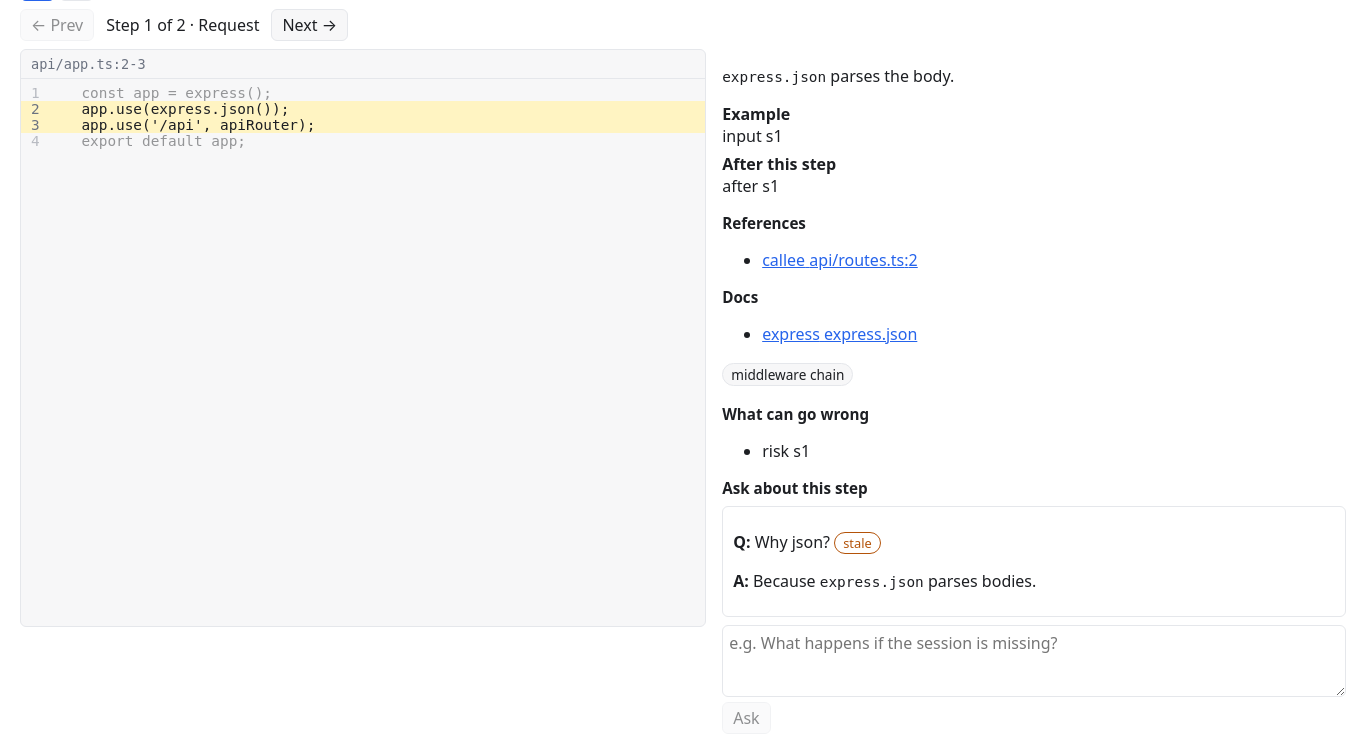
Test: questions › keeps an unsent question when moving to another step and back
The width and height of the screenshot is (1366, 750).
(page scrolled)
Type "Draft question" into the text box named "Question" at x=1034, y=661, box left=722, top=625, right=1346, bottom=697
(page scrolled)
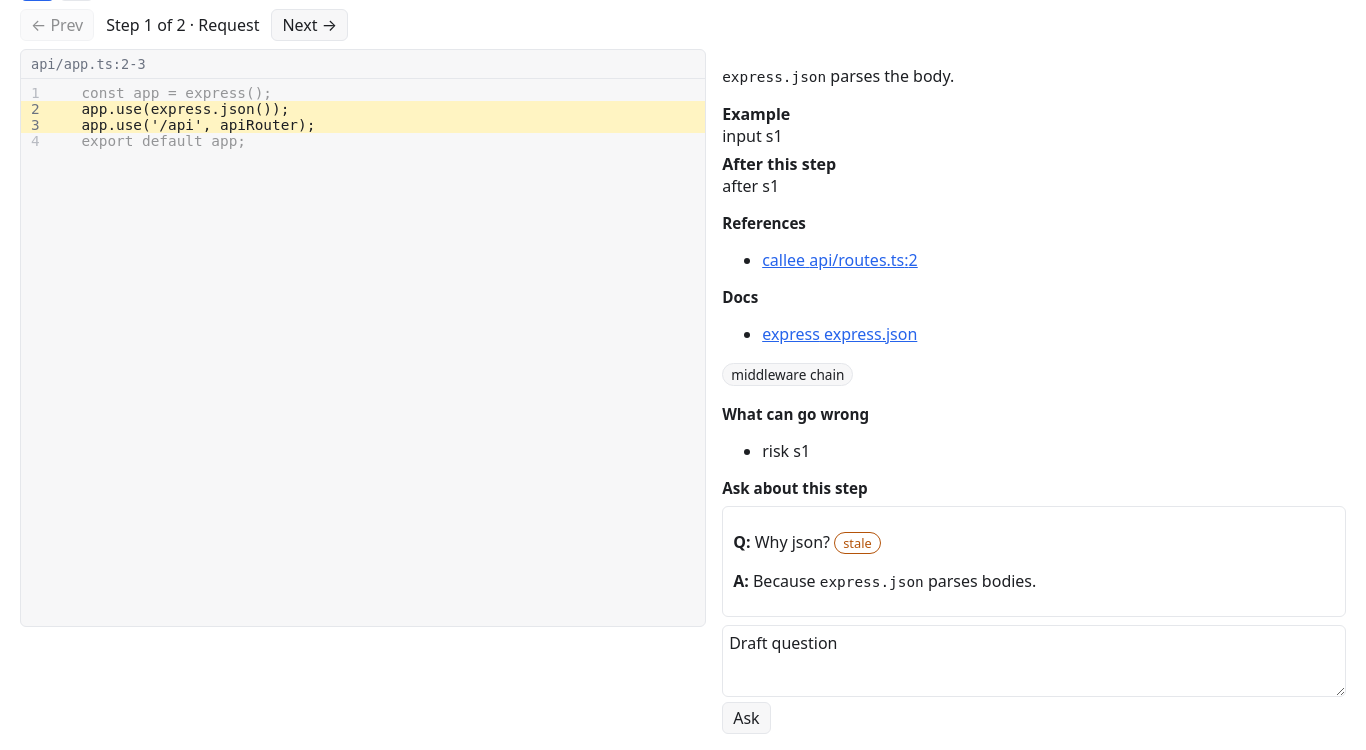
Click the button "Next →" at x=310, y=25, box left=271, top=9, right=348, bottom=41
(page scrolled)
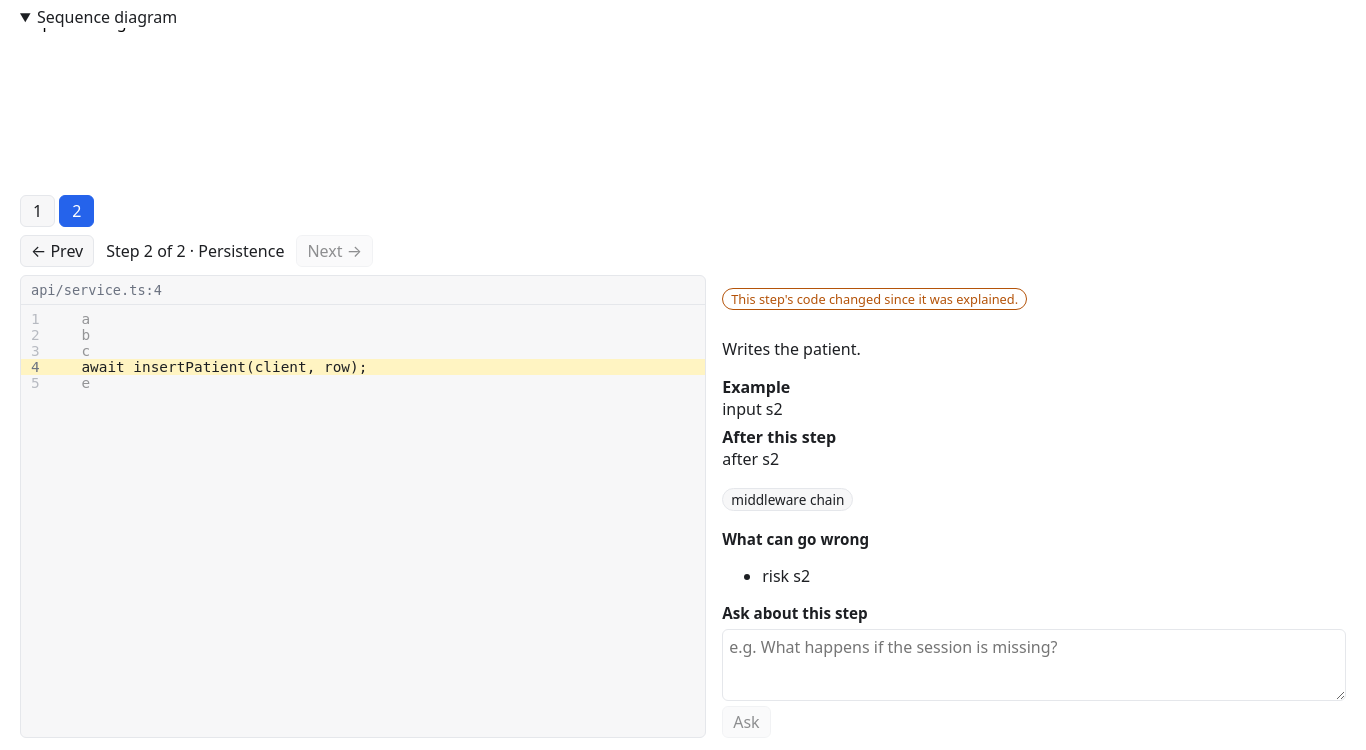
Check: the text box named "Question" is empty, box left=722, top=630, right=1346, bottom=702
Click the button "← Prev" at x=57, y=251, box left=20, top=235, right=94, bottom=267
(page scrolled)
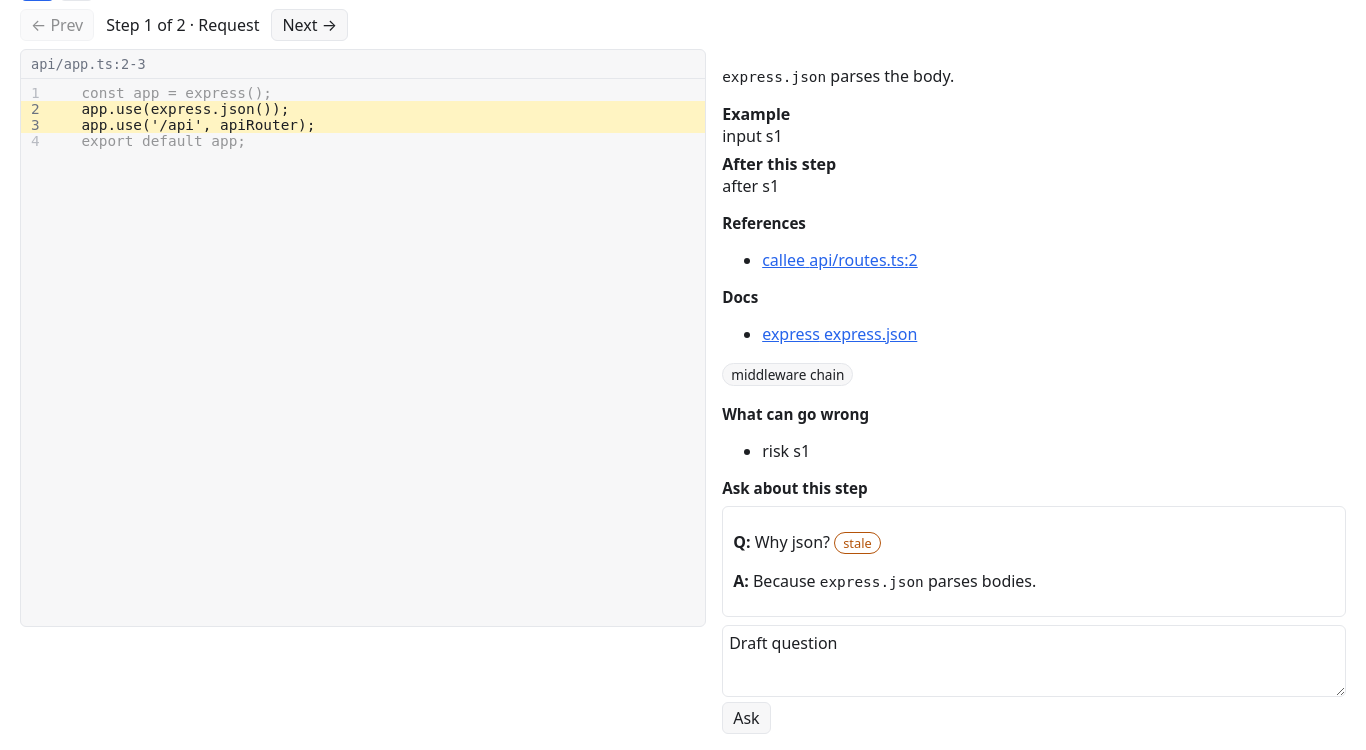
Check: the text box named "Question" holds "Draft question", box left=722, top=625, right=1346, bottom=697
